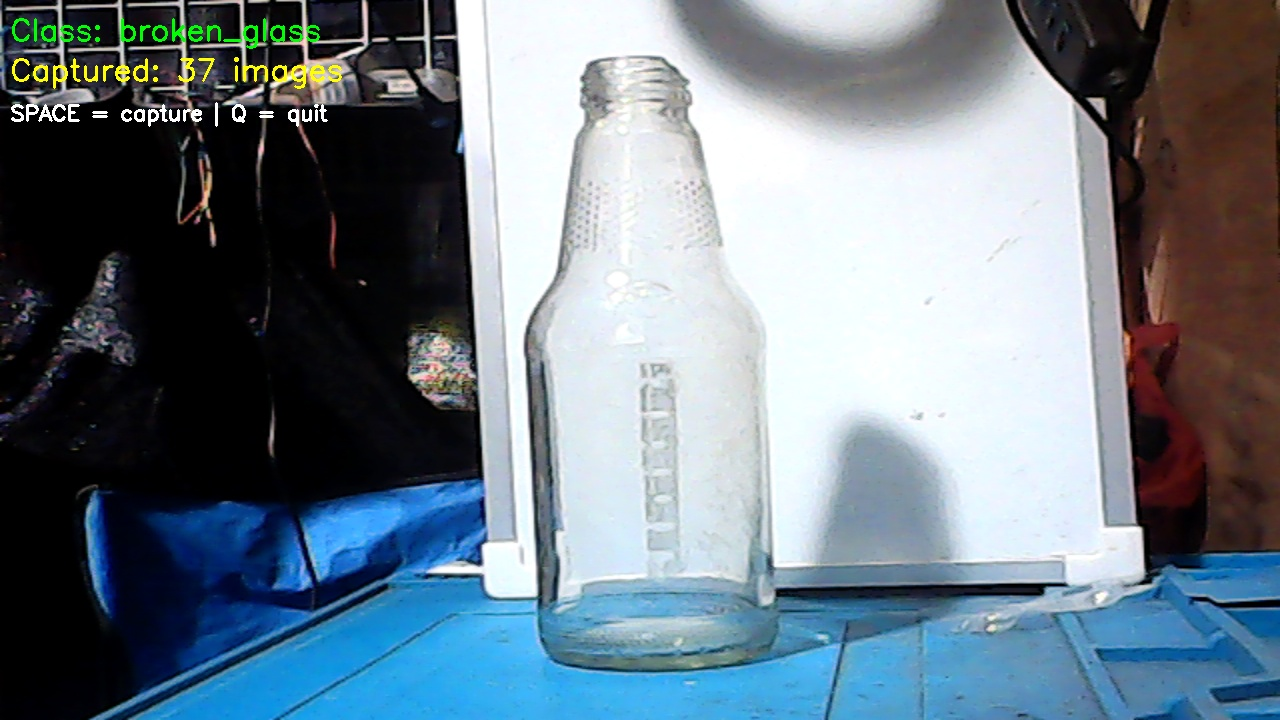broken_glass: (531, 55, 786, 689)
